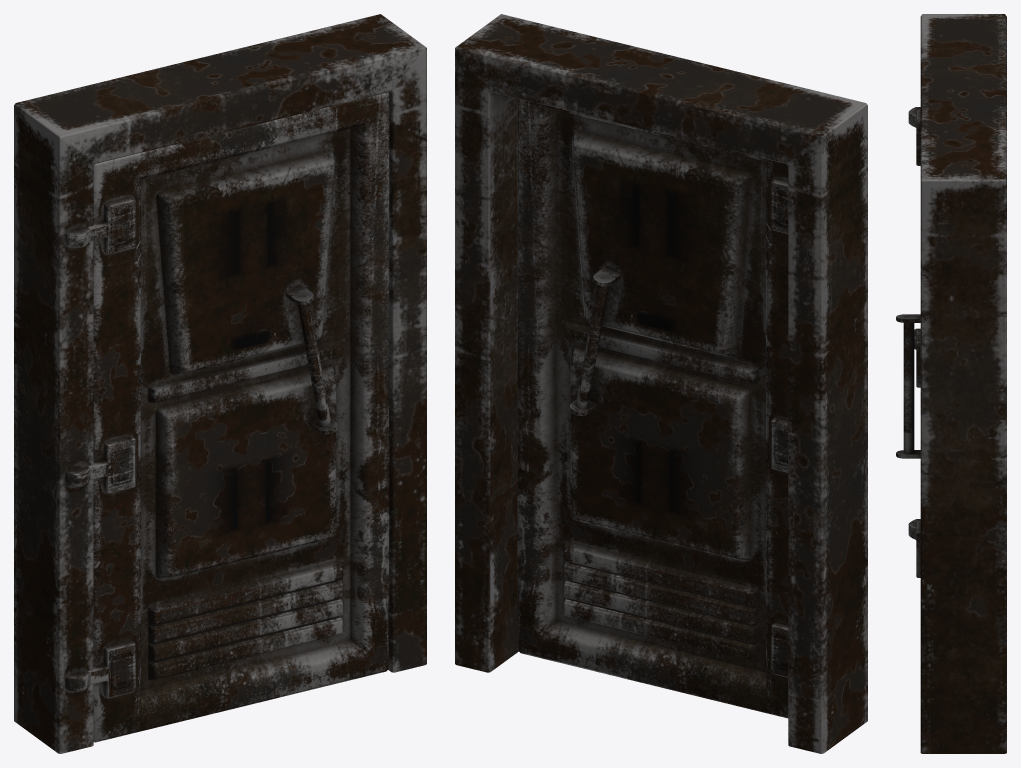
File: Steel_Door_4_A.glb
3 views of the same model, side by side, from view 1: azimuth 30°, elevation 25°; view 2: azimuth 150°, elevation 25°; view 3: azimuth 270°, elevation 25° (orthographic). The views are drawn at different scales.
Parts seen in each view (by area): view 1: Door, Door_Frame; view 2: Door, Door_Frame; view 3: Door_Frame, Door.
Part boxes in pixels (x1,y1,x2,y2): Door: [88, 92, 389, 742]; Door_Frame: [14, 14, 426, 753]; Door: [517, 98, 788, 718]; Door_Frame: [455, 14, 867, 753]; Door_Frame: [908, 14, 1006, 753]; Door: [896, 108, 920, 577].
Size of the model in its own units: 1.36 by 2.17 by 0.3796.
Materials: 1 (1 with a texture image).
